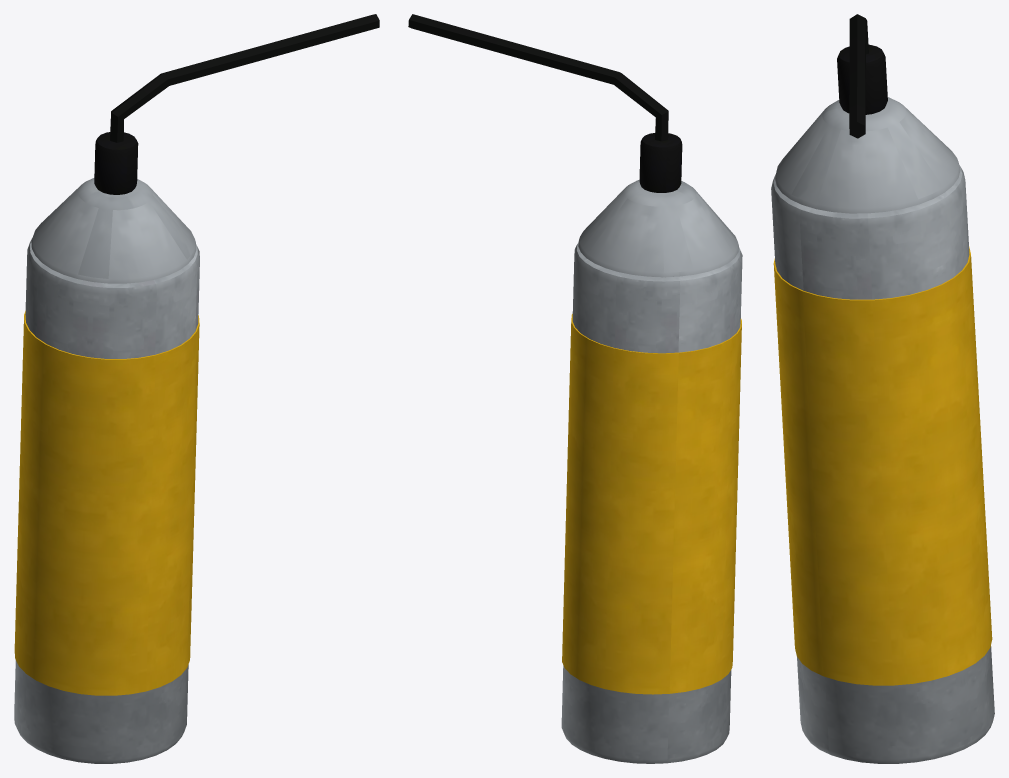
File: ALV-FIX-003_anim.glb
The picture shows the model from 3 angles, left to right: view 1: azimuth 30°, elevation 25°; view 2: azimuth 150°, elevation 25°; view 3: azimuth 270°, elevation 25°; orthographic projection. The views are drawn at different scales.
Visible parts, largest first — view 1: ALV-FIX-003_anim0; view 2: ALV-FIX-003_anim0; view 3: ALV-FIX-003_anim0.
Boxes of the visible parts, x1=… form: ALV-FIX-003_anim0: x1=14, y1=14, x2=379, y2=763; ALV-FIX-003_anim0: x1=408, y1=14, x2=742, y2=763; ALV-FIX-003_anim0: x1=771, y1=14, x2=994, y2=763.
Bounding box in the file's own units: 0.1426 × 0.2721 × 0.0736.
3 materials, 3 textured.
